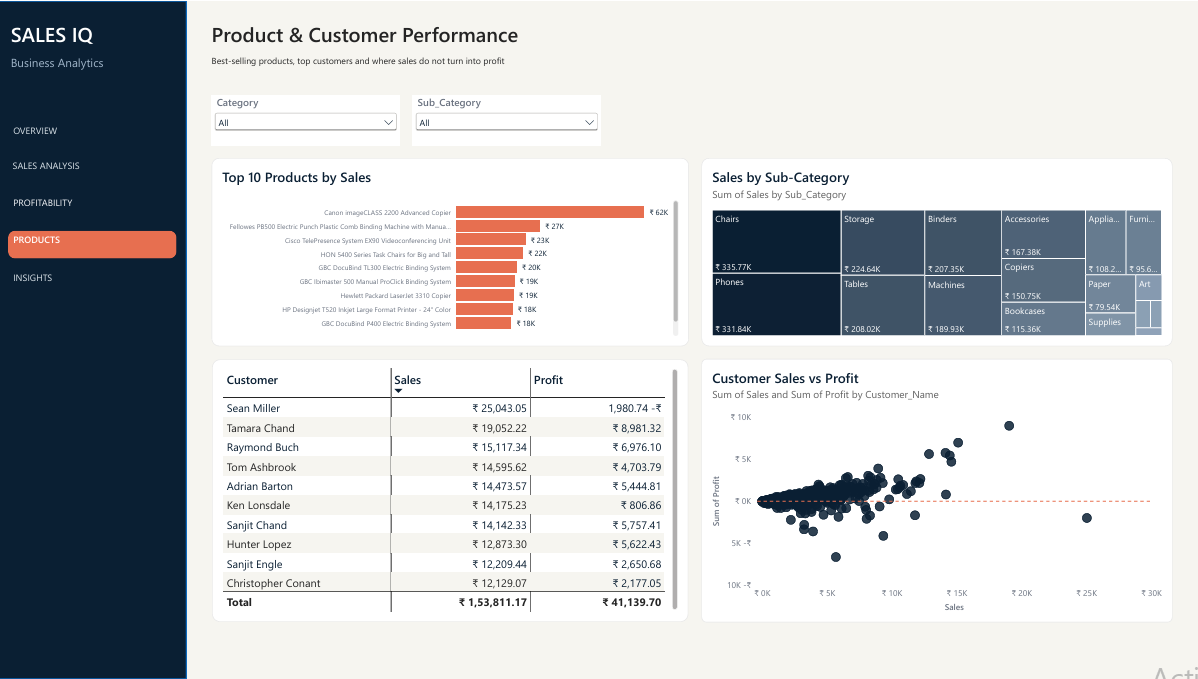

The dashboard page shown, as its layout file describes it:
{"tool":"powerbi","page":{"name":"Products","canvas":[1920,1080],"ordinal":3},"visuals":[{"type":"shape","box":[0,0,300,1080],"z":0},{"type":"shape","box":[16.3,366,268,44],"z":1000},{"type":"slicer","fields":{"Values":["sales_analytics orders.Category"]},"box":[340,150,300,80],"z":2000},{"type":"slicer","fields":{"Values":["sales_analytics orders.Sub_Category"]},"box":[660,150,300,80],"z":3000},{"type":"clusteredBarChart","title":"Top 10 Products by Sales","fields":{"Category":["sales_analytics orders.Product_Name"],"Y":["Sum(sales_analytics orders.Sales)"]},"box":[340,250,760,300],"z":4000},{"type":"treemap","title":"Sales by Sub-Category","fields":{"Group":["sales_analytics orders.Sub_Category"],"Values":["Sum(sales_analytics orders.Sales)"]},"box":[1120,250,750,300],"z":5000},{"type":"tableEx","fields":{"Values":["sales_analytics orders.Customer_Name","Sum(sales_analytics orders.Sales)","Sum(sales_analytics orders.Profit)"]},"box":[340.6,570.6,758.9,418.3],"z":6000},{"type":"scatterChart","title":"Customer Sales vs Profit","fields":{"Category":["sales_analytics orders.Customer_Name"],"X":["Sum(sales_analytics orders.Sales)"],"Y":["Sum(sales_analytics orders.Profit)"]},"box":[1120,570,750,420],"z":7000},{"type":"textbox","box":[20,30,260,60],"z":8000},{"type":"textbox","box":[20,85,240,40],"z":9000},{"type":"textbox","box":[23.4,250.9,241.5,39.9],"z":10000},{"type":"textbox","box":[24,310,240,40],"z":11000},{"type":"textbox","box":[24,370,240,40],"z":12000},{"type":"textbox","box":[24,196,218.6,48.8],"z":13000},{"type":"textbox","box":[340,30,700,60],"z":14000},{"type":"textbox","box":[24,430,240,40],"z":15000},{"type":"textbox","box":[340,85,700,36],"z":16000},{"type":"actionButton","box":[16,186,268,44],"z":17000},{"type":"actionButton","box":[16,246,268,44],"z":18000},{"type":"actionButton","box":[16,306,268,44],"z":19000},{"type":"actionButton","box":[16,426,268,44],"z":20000}]}

Visuals, with their boxes on the page's 1920x1080 design canvas (x1, y1, x2, y2). These are canvas units, not pixel positions in the 1198x679 screenshot, which may show the page scaled, cropped or inside an application window:
shape: box(0, 0, 300, 1080)
shape: box(16, 366, 284, 410)
slicer - sales_analytics orders.Category: box(340, 150, 640, 230)
slicer - sales_analytics orders.Sub_Category: box(660, 150, 960, 230)
"Top 10 Products by Sales" clusteredBarChart: box(340, 250, 1100, 550)
"Sales by Sub-Category" treemap: box(1120, 250, 1870, 550)
tableEx - sales_analytics orders.Customer_Name x Sum(sales_analytics orders.Sales): box(341, 571, 1100, 989)
"Customer Sales vs Profit" scatterChart: box(1120, 570, 1870, 990)
textbox: box(20, 30, 280, 90)
textbox: box(20, 85, 260, 125)
textbox: box(23, 251, 265, 291)
textbox: box(24, 310, 264, 350)
textbox: box(24, 370, 264, 410)
textbox: box(24, 196, 243, 245)
textbox: box(340, 30, 1040, 90)
textbox: box(24, 430, 264, 470)
textbox: box(340, 85, 1040, 121)
actionButton: box(16, 186, 284, 230)
actionButton: box(16, 246, 284, 290)
actionButton: box(16, 306, 284, 350)
actionButton: box(16, 426, 284, 470)
